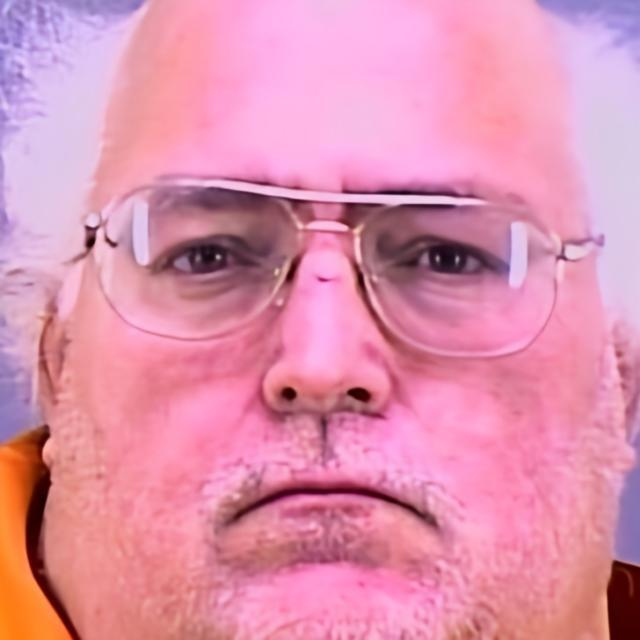anger: (82, 33, 562, 624)
